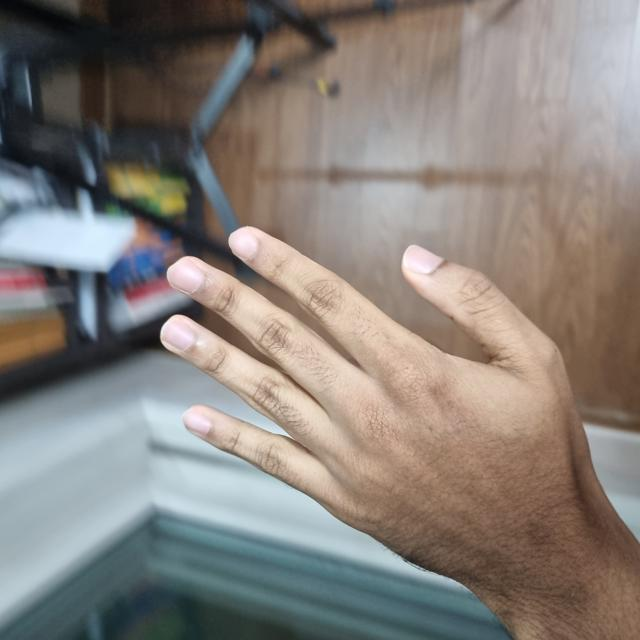Paper: (49, 161, 410, 588)
